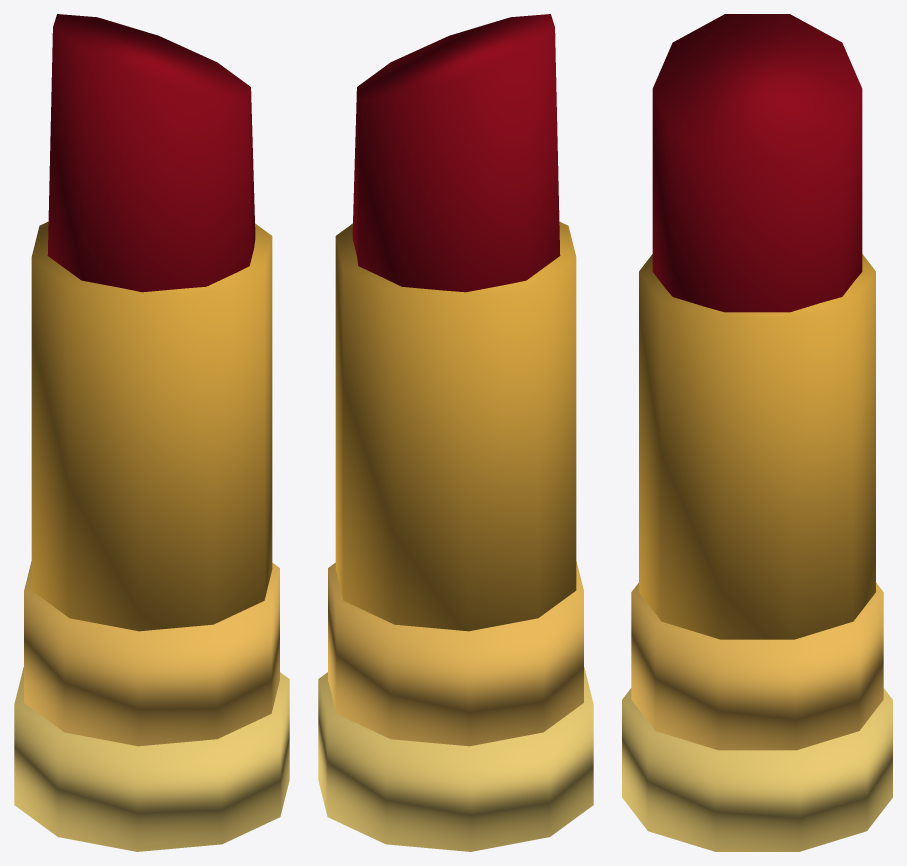
Rendered from lipstick.fbx.
The picture shows the model from 3 angles, left to right: view 1: azimuth 30°, elevation 25°; view 2: azimuth 150°, elevation 25°; view 3: azimuth 270°, elevation 25°; orthographic projection. The views are drawn at different scales.
Parts seen in each view (by area): view 1: Cylinder.002, Cylinder.003, Cylinder.001, Cylinder; view 2: Cylinder.002, Cylinder.003, Cylinder.001, Cylinder; view 3: Cylinder.002, Cylinder.003, Cylinder.001, Cylinder.
Part boxes in pixels (x1,y1,x2,y2): Cylinder.002: [31, 221, 272, 631]; Cylinder.003: [47, 14, 255, 292]; Cylinder.001: [24, 561, 279, 746]; Cylinder: [14, 667, 289, 851]; Cylinder.002: [335, 221, 576, 631]; Cylinder.003: [352, 14, 560, 292]; Cylinder.001: [328, 561, 583, 746]; Cylinder: [318, 667, 593, 851]; Cylinder.002: [639, 254, 875, 639]; Cylinder.003: [652, 14, 862, 312]; Cylinder.001: [631, 583, 883, 750]; Cylinder: [622, 688, 892, 851].
Size of the model in its own units: 49.78 by 159 by 52.35.
